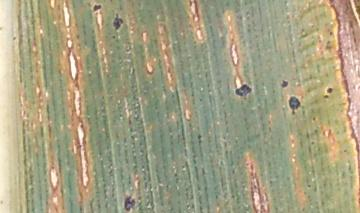tarspot: (287, 94, 301, 115), (234, 83, 253, 98), (112, 11, 124, 34), (123, 194, 137, 212), (280, 78, 288, 90), (92, 3, 102, 12), (325, 86, 333, 95), (196, 132, 202, 144), (327, 30, 334, 38), (74, 32, 81, 40), (322, 94, 330, 100), (311, 115, 317, 123), (11, 35, 17, 42), (110, 33, 116, 40), (309, 139, 316, 145), (1, 25, 5, 33)
